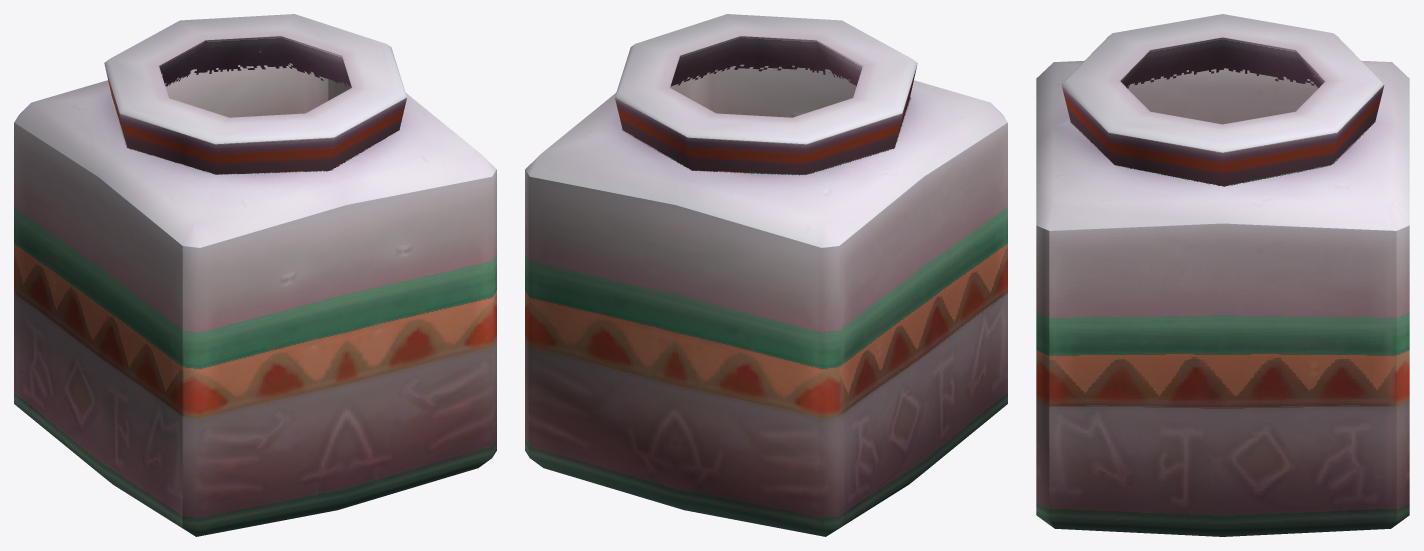
File: jar_painted.glb
3 renders of one model, left to right at view 1: azimuth 30°, elevation 25°; view 2: azimuth 150°, elevation 25°; view 3: azimuth 270°, elevation 25°, orthographic. The views are drawn at different scales.
Visible parts, largest first — view 1: 彩陶罐子; view 2: 彩陶罐子; view 3: 彩陶罐子.
Part boxes in pixels (bbox=[...]): 彩陶罐子: bbox=[14, 14, 496, 536]; 彩陶罐子: bbox=[525, 14, 1007, 536]; 彩陶罐子: bbox=[1036, 14, 1409, 536].
Size of the model in its own units: 0.4979 by 0.5666 by 0.4979.
Materials: 1 (1 with a texture image).
